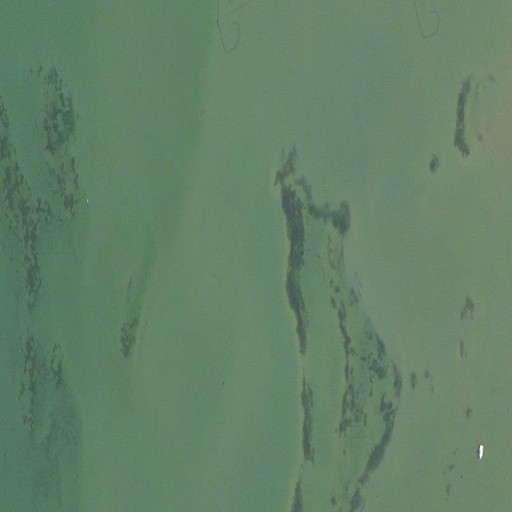ship: (477, 443, 485, 461)
